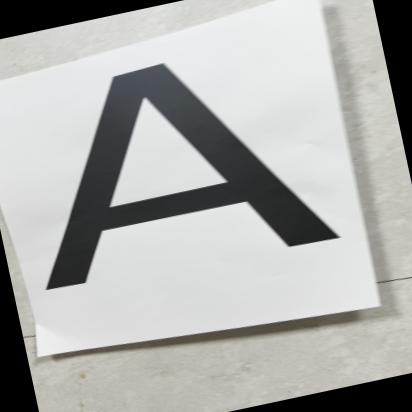seat: (0, 18, 372, 318)
